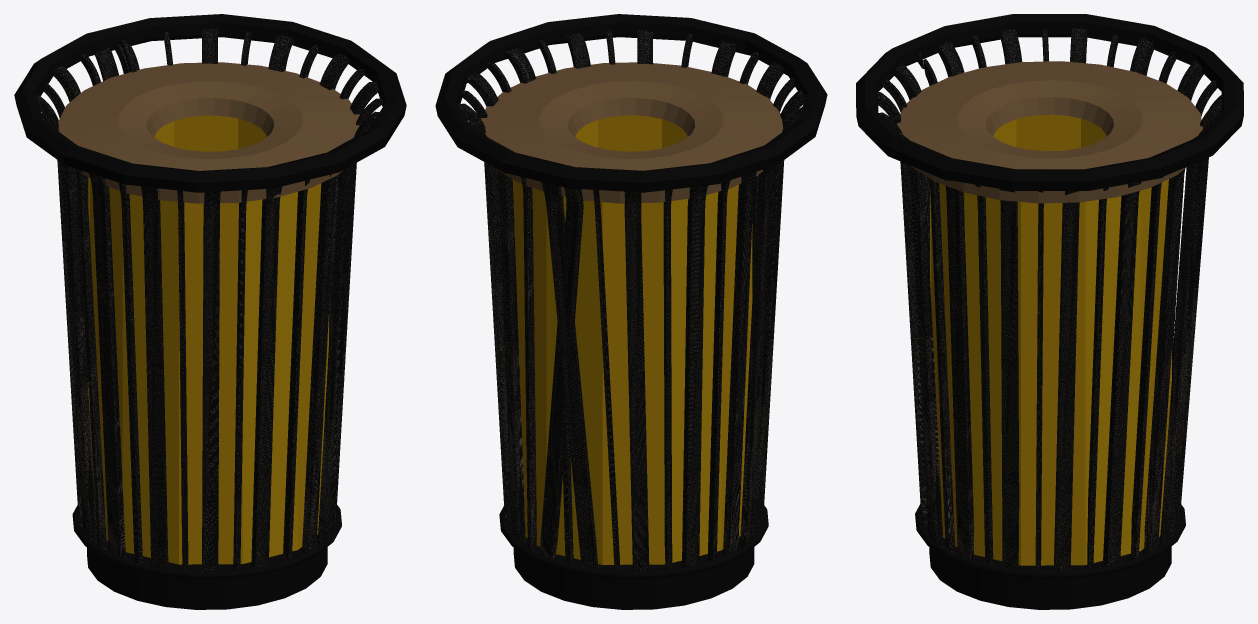
3 views of the same model, side by side, from view 1: azimuth 30°, elevation 25°; view 2: azimuth 150°, elevation 25°; view 3: azimuth 270°, elevation 25° (orthographic).
Visible parts, largest first — view 1: mesh7.002_mesh7-geometry, mesh10.002_mesh10-geometry, mesh9.002_mesh9-geometry, mesh3.001_mesh3-geometry, mesh1.020_mesh1-geometry, mesh1.028_mesh1-geometry, mesh1.027_mesh1-geometry, mesh1.026_mesh1-geometry, mesh1.016_mesh1-geometry, mesh1.021_mesh1-geometry, mesh2.027_mesh2-geometry, mesh2.023_mesh2-geometry (+13 smaller); view 2: mesh7.002_mesh7-geometry, mesh10.002_mesh10-geometry, mesh9.002_mesh9-geometry, mesh3.001_mesh3-geometry, mesh1.029_mesh1-geometry, mesh1.022_mesh1-geometry, mesh1.030_mesh1-geometry, mesh1.021_mesh1-geometry, mesh1.024_mesh1-geometry, mesh1.023_mesh1-geometry, mesh1.027_mesh1-geometry, mesh2.027_mesh2-geometry (+16 smaller); view 3: mesh7.002_mesh7-geometry, mesh10.002_mesh10-geometry, mesh9.002_mesh9-geometry, mesh3.001_mesh3-geometry, mesh1.019_mesh1-geometry, mesh1.017_mesh1-geometry, mesh1.025_mesh1-geometry, mesh1.018_mesh1-geometry, mesh1.024_mesh1-geometry, mesh1.016_mesh1-geometry, mesh2.025_mesh2-geometry, mesh2.023_mesh2-geometry (+16 smaller).
Part boxes in pixels (left/top/right/bottom): mesh7.002_mesh7-geometry: left=88, top=115, right=328, bottom=564; mesh10.002_mesh10-geometry: left=58, top=62, right=359, bottom=203; mesh9.002_mesh9-geometry: left=14, top=14, right=406, bottom=192; mesh3.001_mesh3-geometry: left=72, top=505, right=341, bottom=609; mesh1.020_mesh1-geometry: left=251, top=186, right=282, bottom=567; mesh1.028_mesh1-geometry: left=141, top=186, right=168, bottom=568; mesh1.027_mesh1-geometry: left=89, top=173, right=125, bottom=559; mesh1.026_mesh1-geometry: left=202, top=191, right=220, bottom=571; mesh1.016_mesh1-geometry: left=301, top=174, right=336, bottom=553; mesh1.021_mesh1-geometry: left=61, top=162, right=97, bottom=544; mesh2.027_mesh2-geometry: left=75, top=168, right=106, bottom=551; mesh2.023_mesh2-geometry: left=317, top=128, right=368, bottom=544; mesh7.002_mesh7-geometry: left=512, top=115, right=752, bottom=564; mesh10.002_mesh10-geometry: left=481, top=62, right=783, bottom=203; mesh9.002_mesh9-geometry: left=435, top=14, right=827, bottom=192; mesh3.001_mesh3-geometry: left=499, top=505, right=768, bottom=609; mesh1.029_mesh1-geometry: left=682, top=185, right=708, bottom=567; mesh1.022_mesh1-geometry: left=624, top=191, right=649, bottom=579; mesh1.030_mesh1-geometry: left=541, top=181, right=598, bottom=575; mesh1.021_mesh1-geometry: left=723, top=171, right=756, bottom=556; mesh1.024_mesh1-geometry: left=497, top=170, right=525, bottom=546; mesh1.023_mesh1-geometry: left=539, top=187, right=583, bottom=560; mesh1.027_mesh1-geometry: left=749, top=119, right=798, bottom=540; mesh2.027_mesh2-geometry: left=740, top=167, right=769, bottom=548; mesh7.002_mesh7-geometry: left=930, top=114, right=1171, bottom=565; mesh10.002_mesh10-geometry: left=897, top=61, right=1202, bottom=203; mesh9.002_mesh9-geometry: left=856, top=14, right=1243, bottom=190; mesh3.001_mesh3-geometry: left=915, top=504, right=1185, bottom=609; mesh1.019_mesh1-geometry: left=1102, top=181, right=1141, bottom=566; mesh1.017_mesh1-geometry: left=944, top=179, right=975, bottom=561; mesh1.025_mesh1-geometry: left=1053, top=191, right=1080, bottom=571; mesh1.018_mesh1-geometry: left=999, top=189, right=1019, bottom=569; mesh1.024_mesh1-geometry: left=1143, top=135, right=1199, bottom=554; mesh1.016_mesh1-geometry: left=896, top=130, right=943, bottom=547; mesh2.025_mesh2-geometry: left=1159, top=121, right=1212, bottom=545; mesh2.023_mesh2-geometry: left=929, top=178, right=955, bottom=553.
Bounding box in the file's own units: 0.5149 × 0.6853 × 0.5149.
